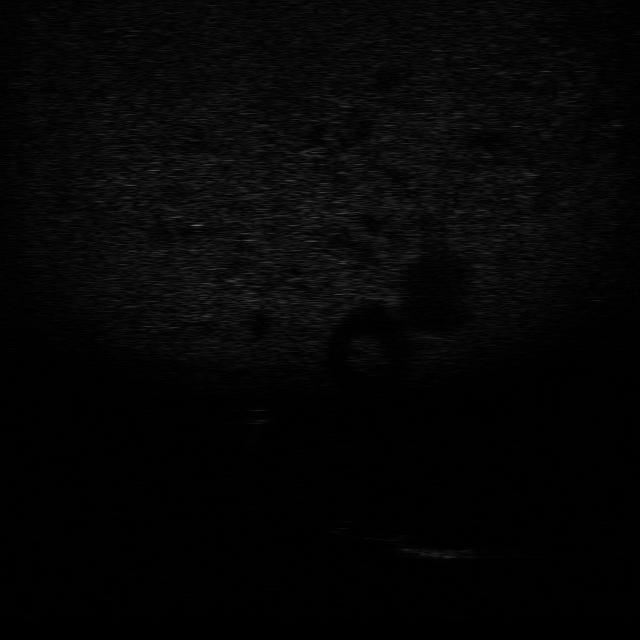ball: (234, 401, 276, 427)
metal bucket: (394, 539, 478, 564)
tyre: (328, 513, 413, 545)
